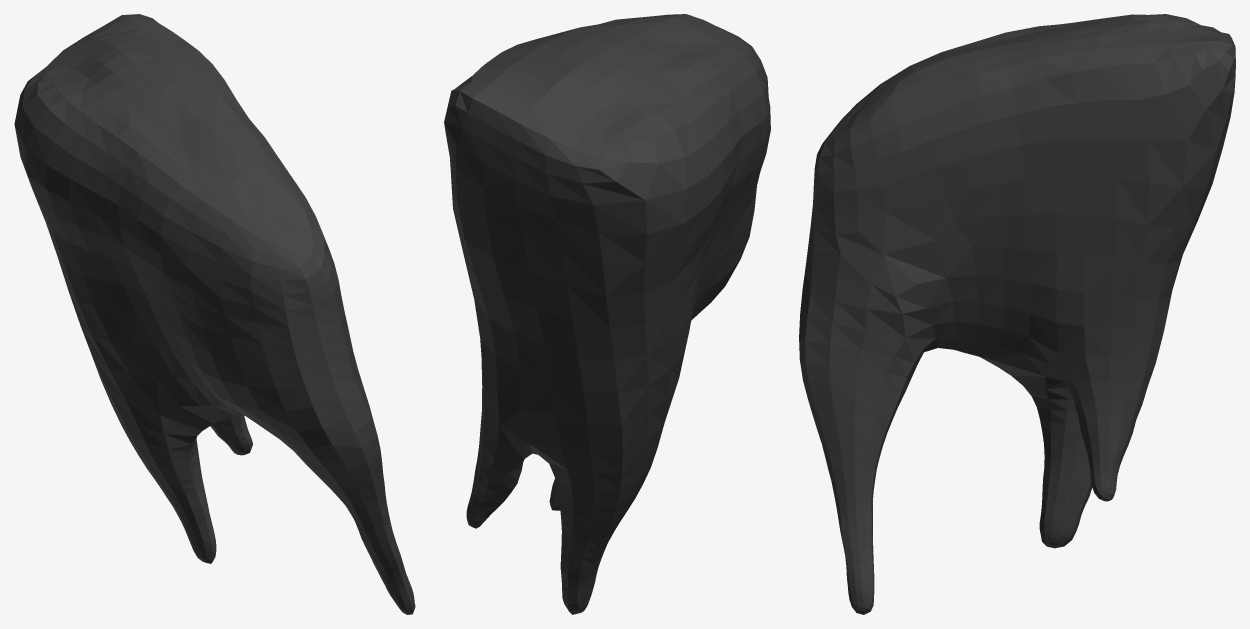
The model's file is L_mand_P2_copy000.glb.
3 views of the same model, side by side, from view 1: azimuth 30°, elevation 25°; view 2: azimuth 150°, elevation 25°; view 3: azimuth 270°, elevation 25° (orthographic). The views are drawn at different scales.
Visible parts, largest first — view 1: L_mand_P2_copy000; view 2: L_mand_P2_copy000; view 3: L_mand_P2_copy000.
Part boxes in pixels (bbox=[...]): L_mand_P2_copy000: bbox=[14, 14, 415, 614]; L_mand_P2_copy000: bbox=[444, 14, 770, 614]; L_mand_P2_copy000: bbox=[799, 14, 1235, 614].
Bounding box in the file's own units: 0.1145 × 0.2187 × 0.1674.
1 material, 1 textured.
